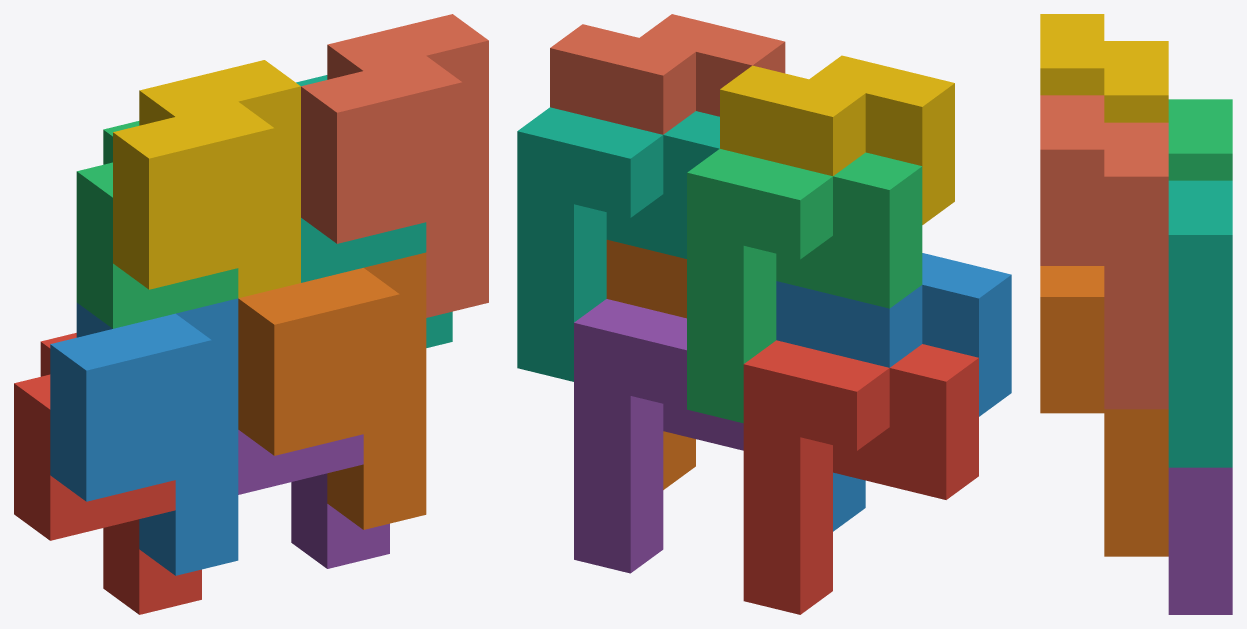
The model's file is tiling.obj.
3 views of the same model, side by side, from view 1: azimuth 30°, elevation 25°; view 2: azimuth 150°, elevation 25°; view 3: azimuth 270°, elevation 25° (orthographic). The views are drawn at different scales.
Parts seen in each view (by area): view 1: copy_1_domain_8, copy_1_domain_2, copy_1_domain_6, copy_1_domain_4, copy_1_domain_1, copy_1_domain_3, copy_1_domain_5, copy_1_domain_7; view 2: copy_1_domain_1, copy_1_domain_3, copy_1_domain_7, copy_1_domain_5, copy_1_domain_4, copy_1_domain_2, copy_1_domain_8, copy_1_domain_6; view 3: copy_1_domain_8, copy_1_domain_6, copy_1_domain_7, copy_1_domain_4, copy_1_domain_5, copy_1_domain_3.
Part boxes in pixels (bbox=[...]): copy_1_domain_8: bbox=[301, 14, 488, 317]; copy_1_domain_2: bbox=[50, 298, 238, 575]; copy_1_domain_6: bbox=[238, 252, 426, 529]; copy_1_domain_4: bbox=[113, 60, 300, 298]; copy_1_domain_1: bbox=[14, 333, 201, 614]; copy_1_domain_3: bbox=[76, 121, 238, 328]; copy_1_domain_5: bbox=[238, 430, 389, 568]; copy_1_domain_7: bbox=[296, 75, 452, 347]; copy_1_domain_1: bbox=[743, 340, 978, 614]; copy_1_domain_3: bbox=[687, 149, 922, 423]; copy_1_domain_7: bbox=[517, 107, 719, 381]; copy_1_domain_5: bbox=[574, 299, 743, 573]; copy_1_domain_4: bbox=[720, 55, 954, 224]; copy_1_domain_2: bbox=[776, 253, 1011, 531]; copy_1_domain_8: bbox=[550, 14, 785, 134]; copy_1_domain_6: bbox=[606, 239, 695, 489]; copy_1_domain_8: bbox=[1040, 95, 1168, 409]; copy_1_domain_6: bbox=[1040, 266, 1168, 556]; copy_1_domain_7: bbox=[1168, 180, 1232, 467]; copy_1_domain_4: bbox=[1040, 14, 1168, 122]; copy_1_domain_5: bbox=[1168, 467, 1232, 614]; copy_1_domain_3: bbox=[1168, 99, 1232, 180].
Size of the model in its own units: 7 by 8 by 3.
